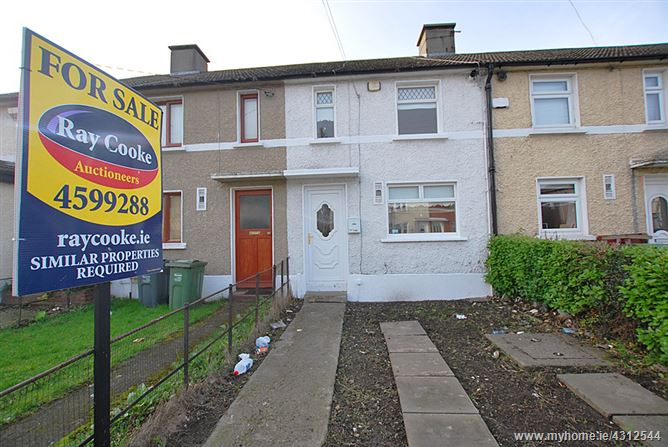property sign: (14, 10, 180, 320)
